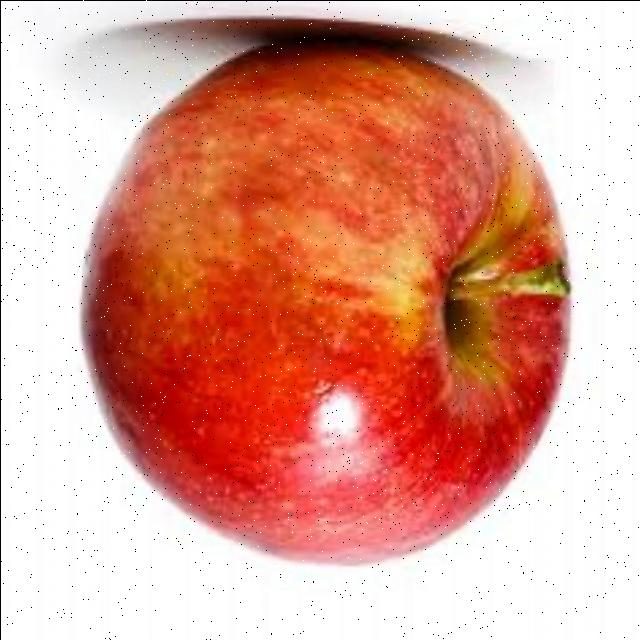HEALTHY: (62, 34, 590, 577)
